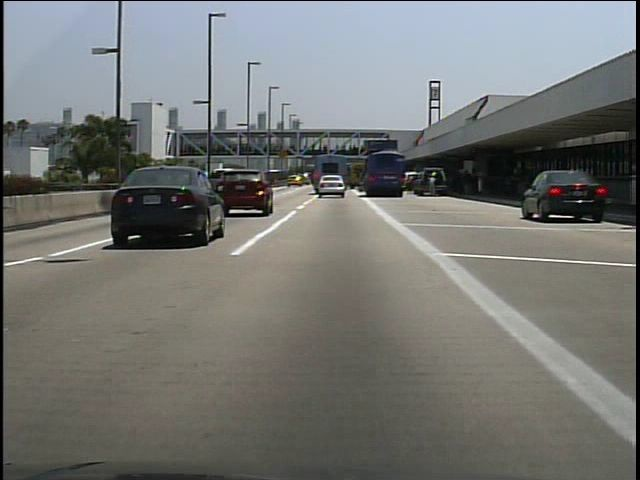person: (457, 165, 474, 200), (427, 173, 440, 199)
